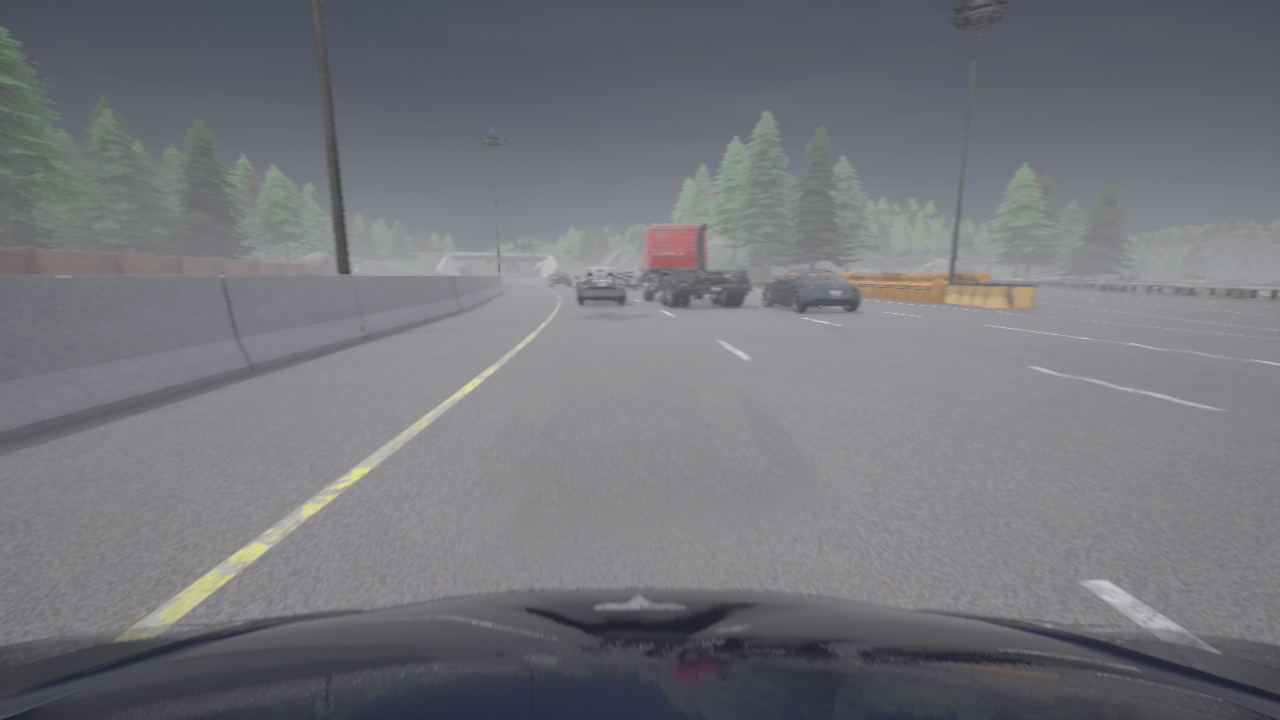cyclist: (0, 588, 1279, 719), (635, 223, 751, 307), (762, 269, 860, 312), (575, 267, 625, 305), (548, 270, 572, 286), (618, 272, 639, 288), (955, 269, 975, 272)
